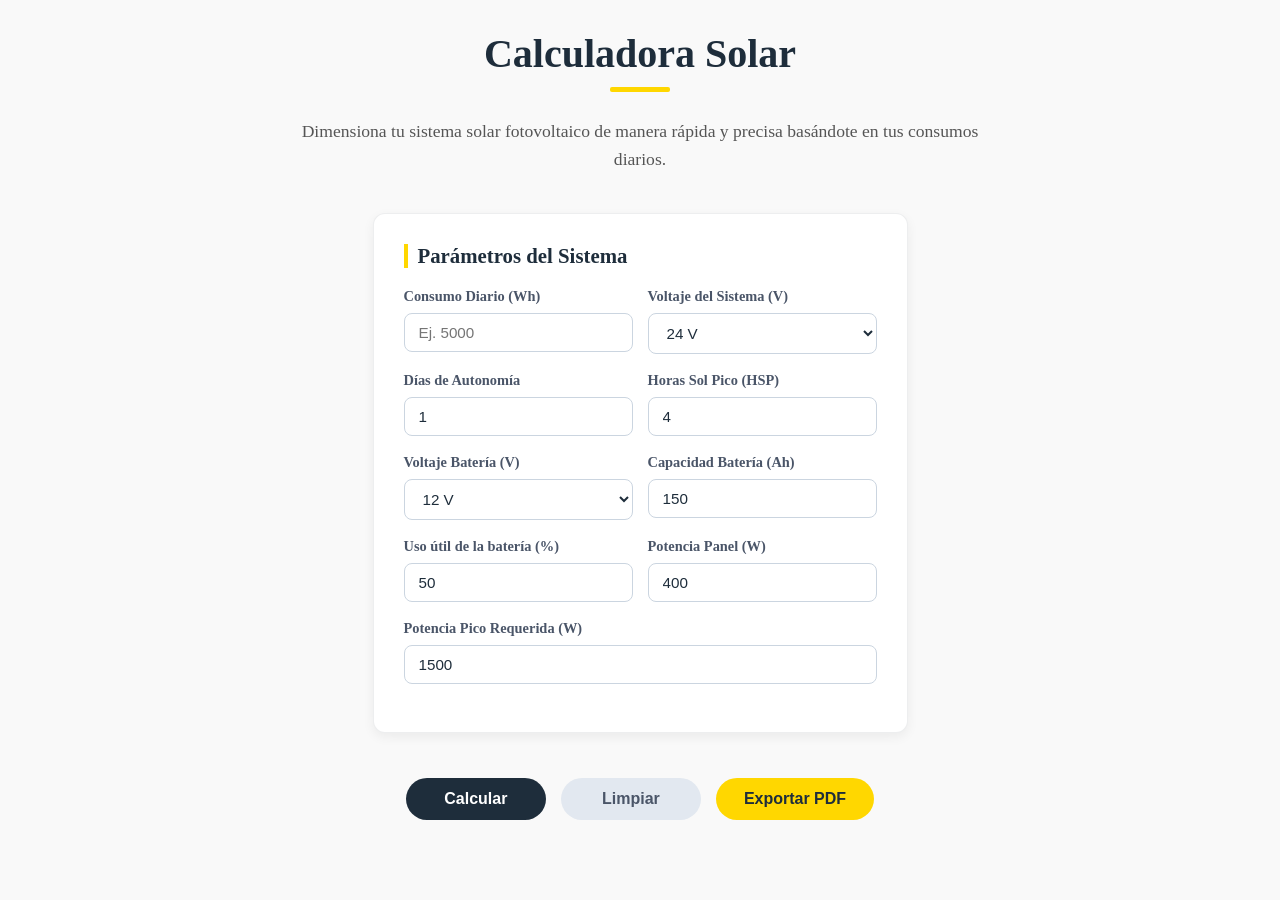
Test: CalculadoraSolar › exportar PDF › muestra el error si el API rechaza el PDF
(page scrolled)
Click the button "Exportar PDF".
click(795, 800)  # box 716,778 -> 874,820
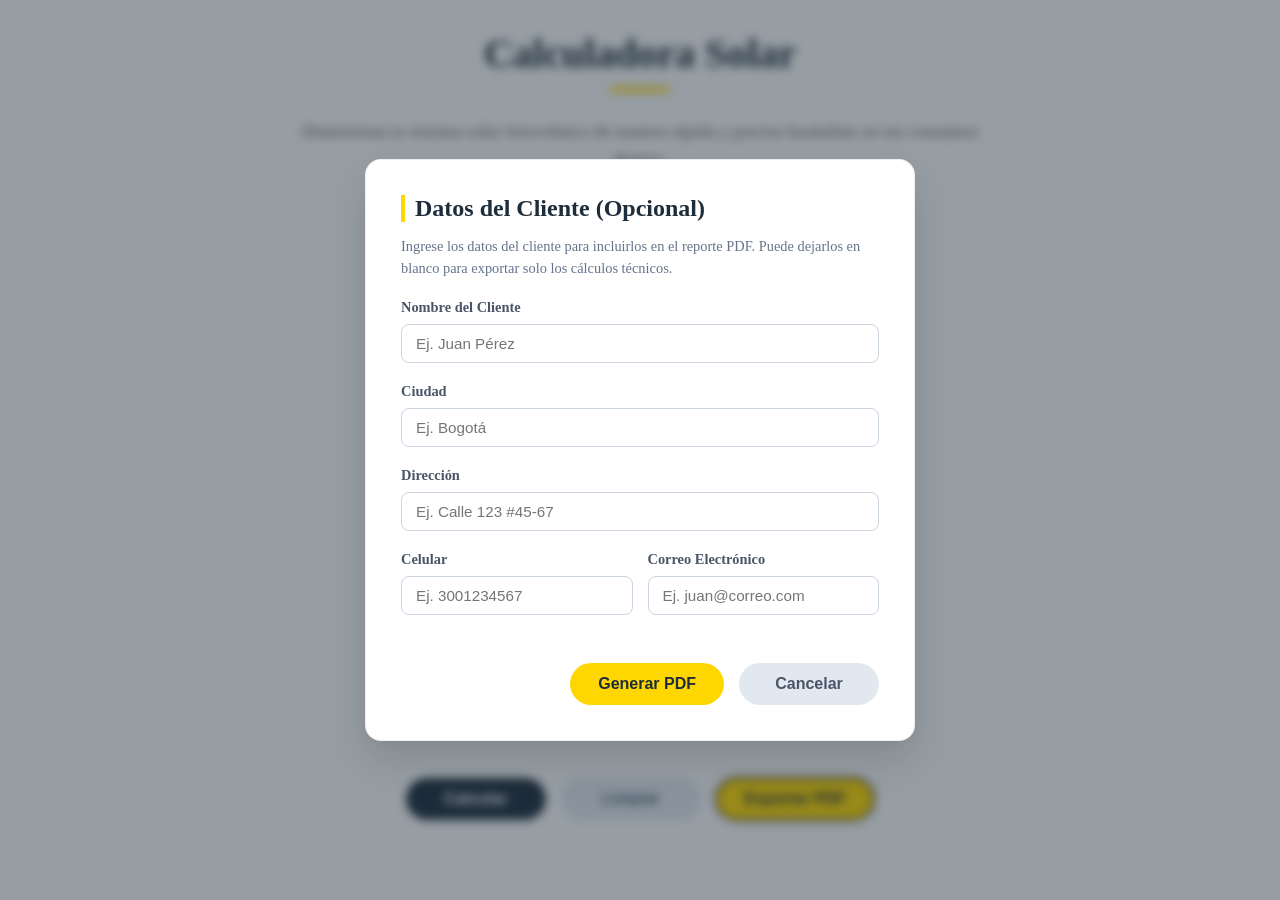
Click the button "Generar PDF".
click(647, 684)  # box 570,663 -> 724,705
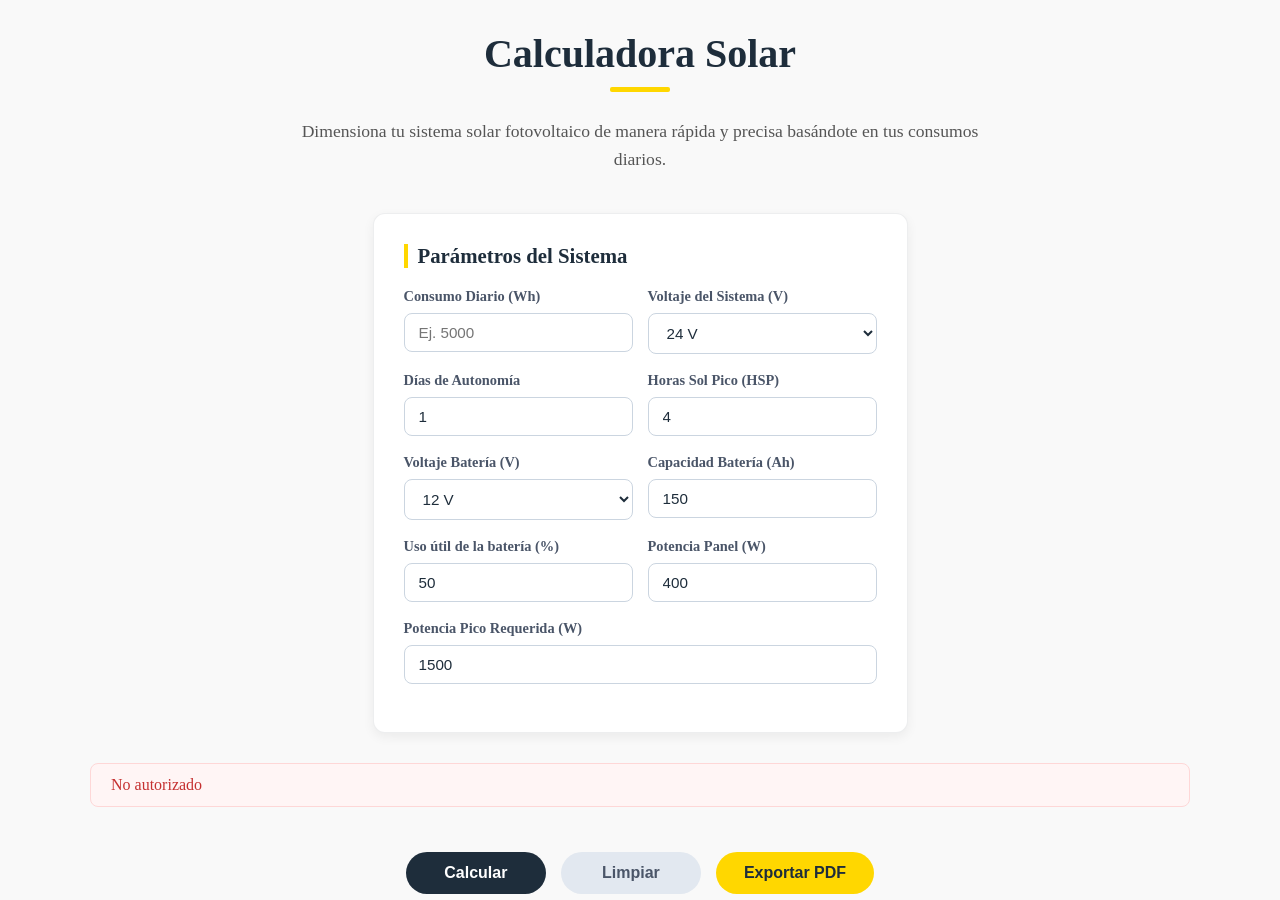
expect the text "No autorizado" is shown: met, box 90,764 -> 1190,808
